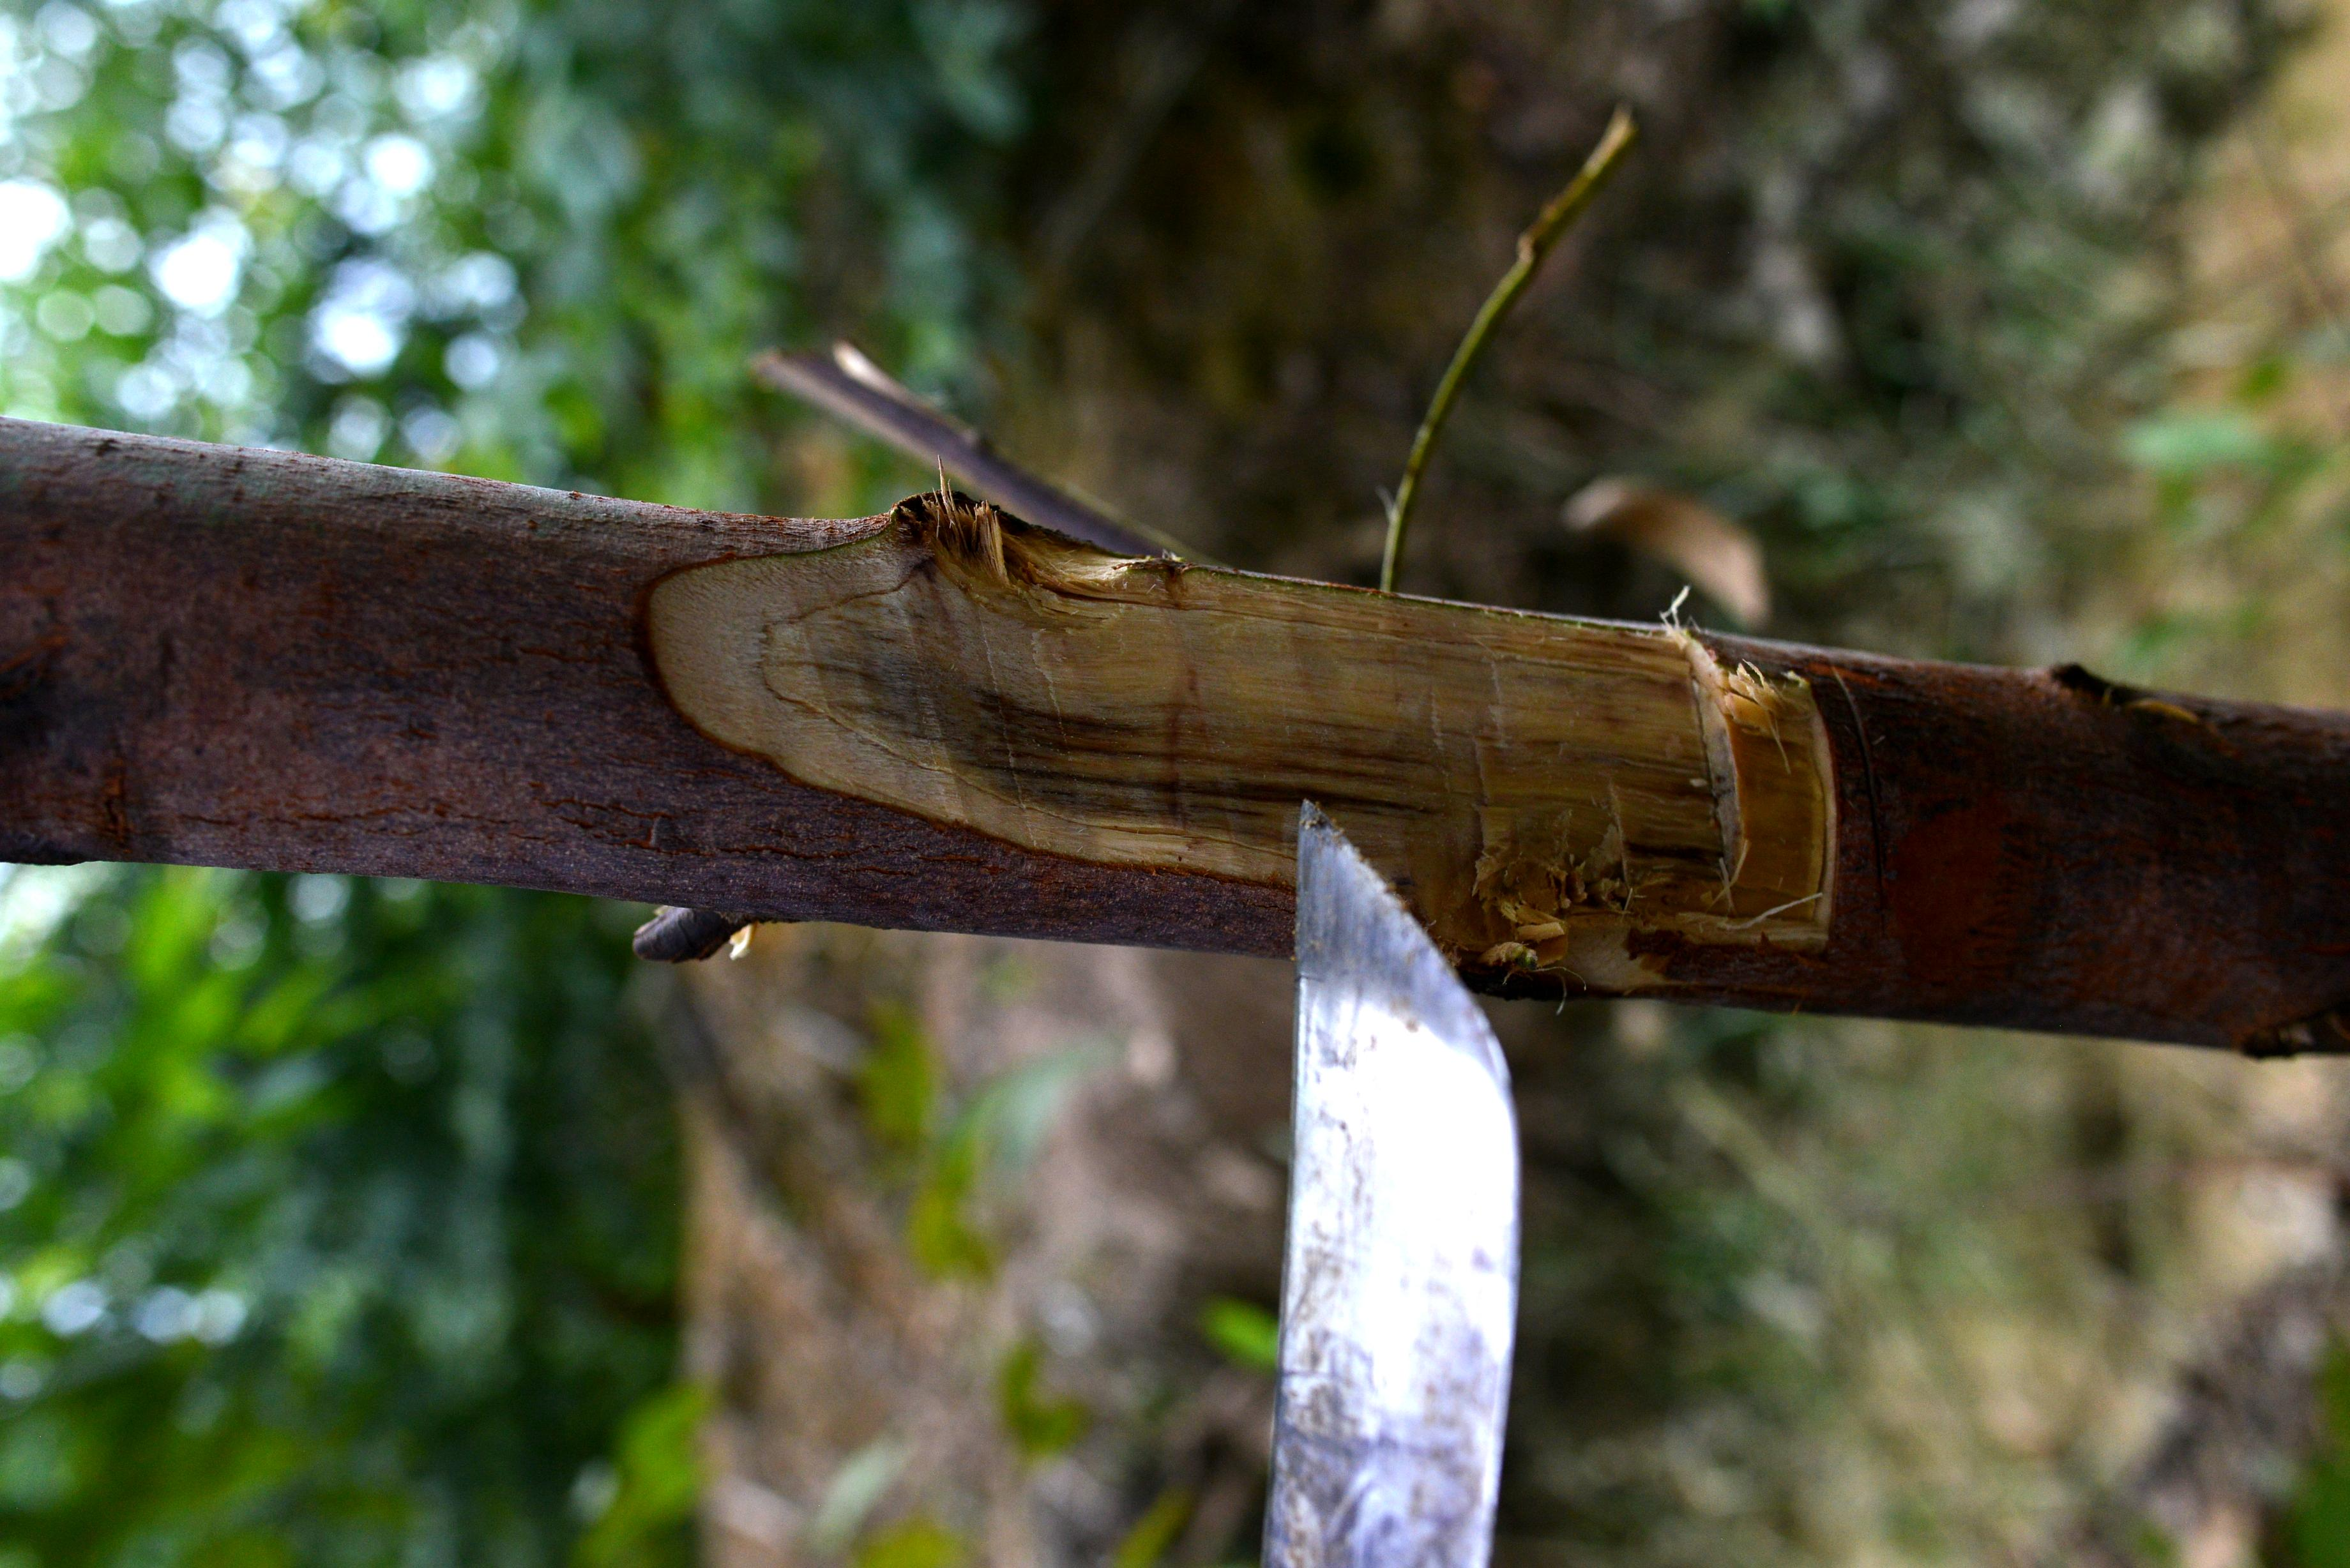Ralstonia: (639, 507, 1836, 896)
